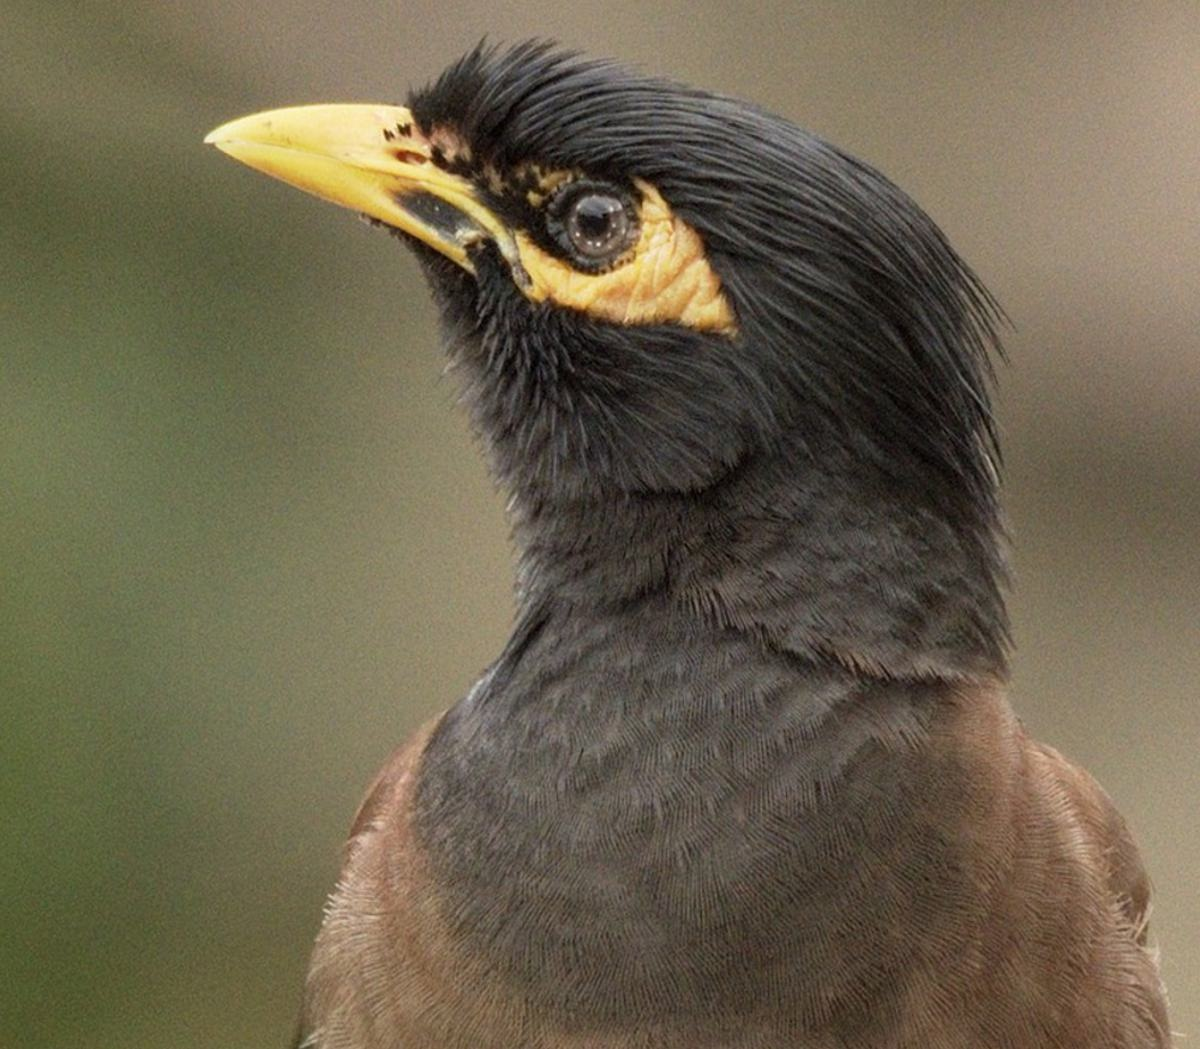myna: (185, 35, 1165, 1049)
